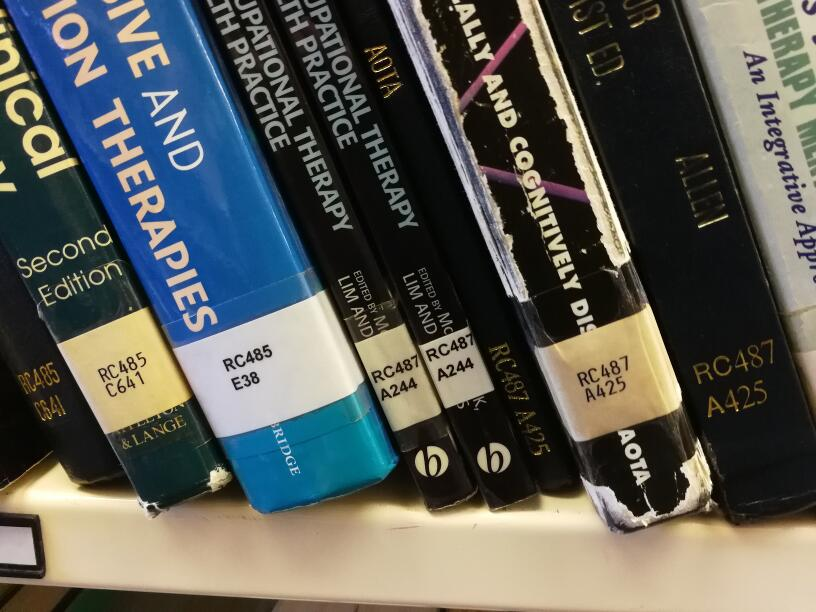booklabel: (486, 339, 553, 459), (691, 336, 776, 421), (14, 357, 70, 426), (571, 353, 632, 403), (94, 350, 153, 398), (424, 332, 479, 382), (220, 342, 274, 391), (368, 354, 421, 402)
